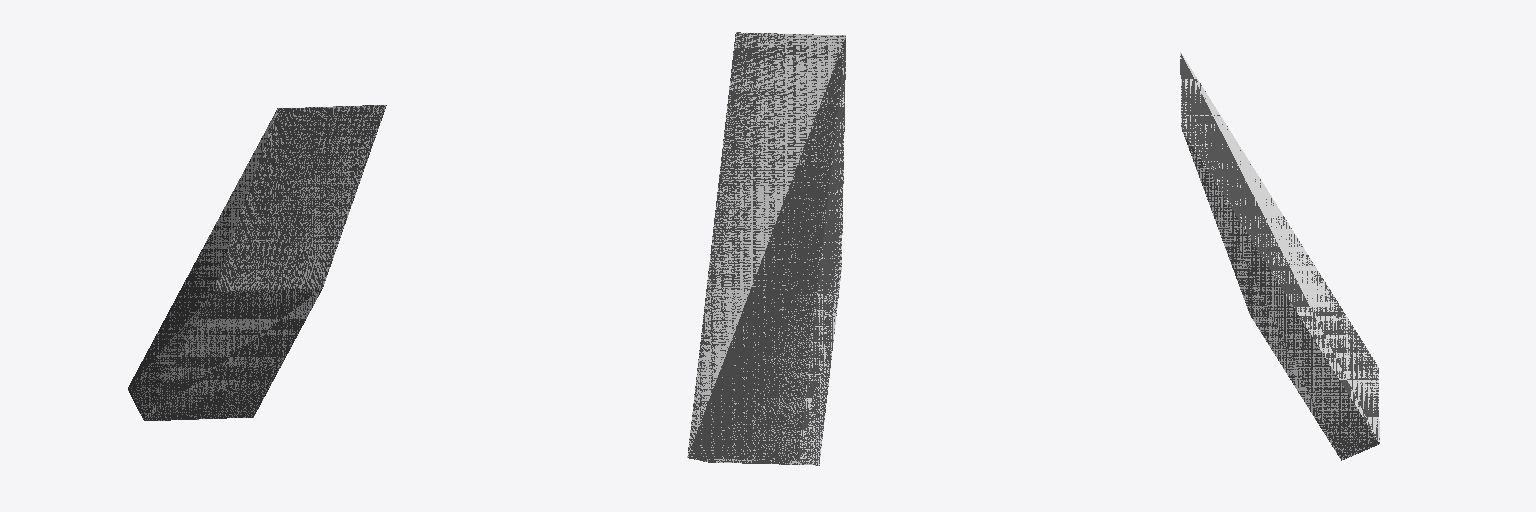
Rendered from original-26.obj.
3 views of the same model, side by side, from view 1: azimuth 30°, elevation 25°; view 2: azimuth 150°, elevation 25°; view 3: azimuth 270°, elevation 25° (orthographic).
Visible parts, largest first — view 1: Group13/mesh19/mesh19-geometry#mesh19-geometry; view 2: Group13/mesh19/mesh19-geometry#mesh19-geometry; view 3: Group13/mesh19/mesh19-geometry#mesh19-geometry.
Boxes of the visible parts, x1=… form: Group13/mesh19/mesh19-geometry#mesh19-geometry: x1=128, y1=105, x2=386, y2=420; Group13/mesh19/mesh19-geometry#mesh19-geometry: x1=687, y1=32, x2=845, y2=465; Group13/mesh19/mesh19-geometry#mesh19-geometry: x1=1180, y1=52, x2=1379, y2=460.
Bounding box in the file's own units: 0.0641 × 0.1433 × 0.0679.